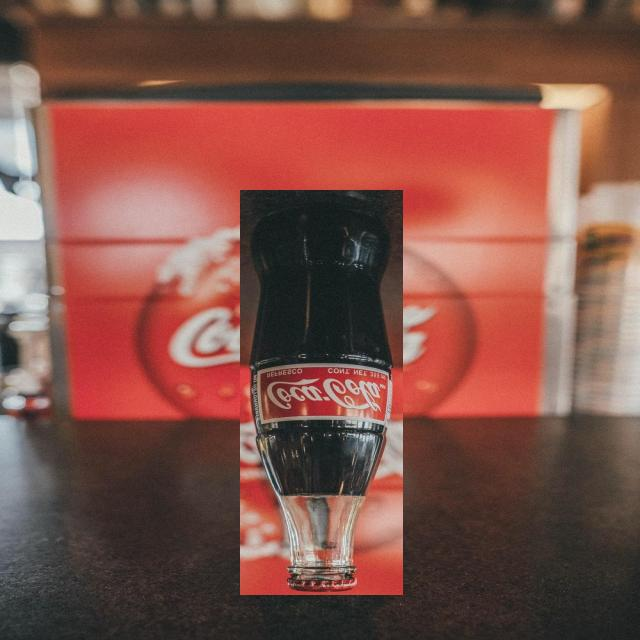coca-cola: (240, 190, 403, 595)
